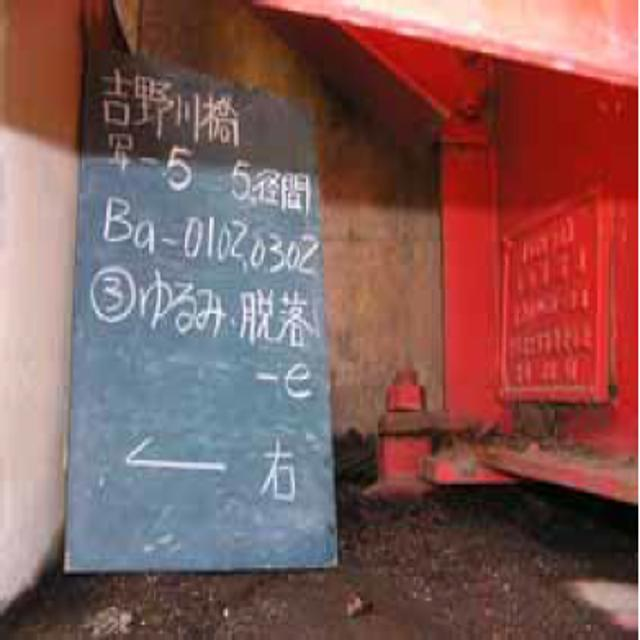corrosion: (398, 379, 588, 497)
